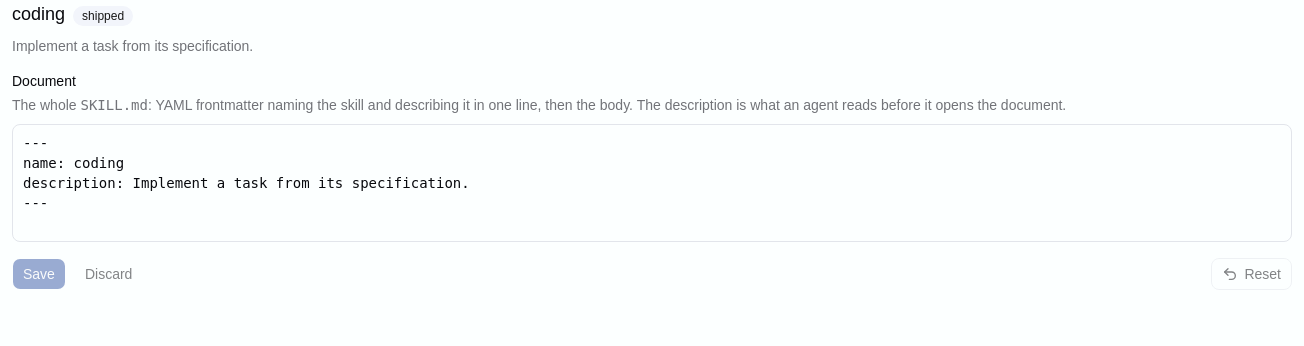
Test case: the document › shows what the daemon refused a save for
Type "broken" into the text box labelled "Document".
click(652, 183); type("broken")  # box [12,124,1292,242]
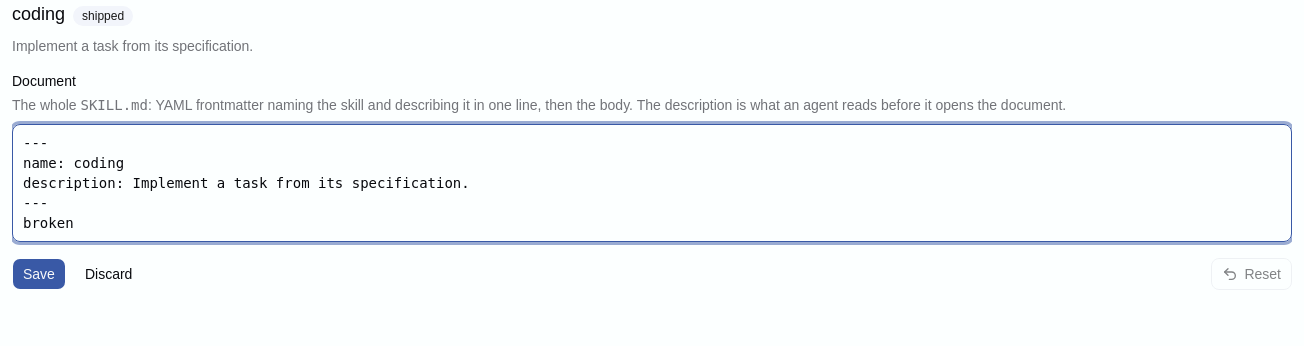
Click the button "Save".
click(39, 274)  # box [12,258,66,290]
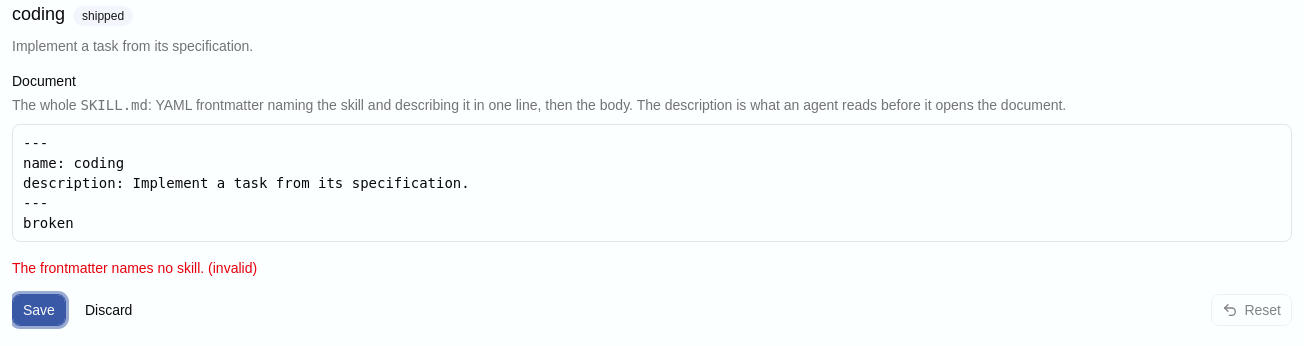
expect the message shows "The frontmatter names no skill.": met, box [12,260,257,276]
